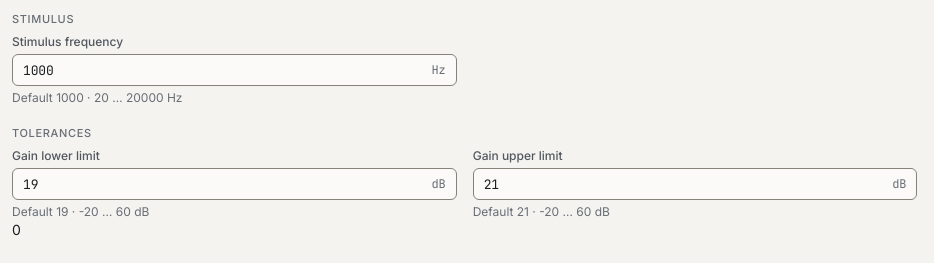
Scenario: ParameterForm › shows an inline range error with units and marks the field invalid
The width and height of the screenshot is (934, 263).
Clear the field labelled "Stimulus frequency" at {"x": 222, "y": 70}, box [13,55,432,85]
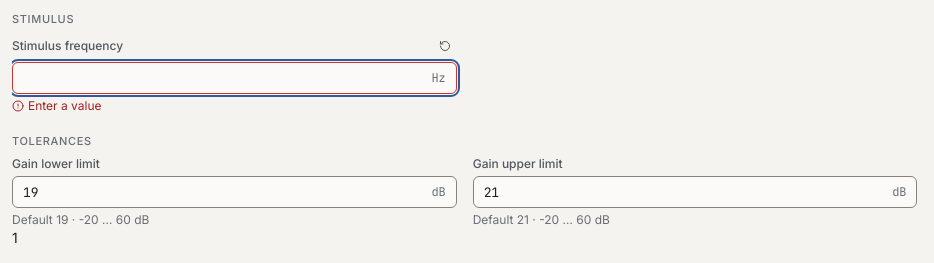
Type "5" into the field labelled "Stimulus frequency".
click(222, 78); type("5")  # box [13,63,432,93]
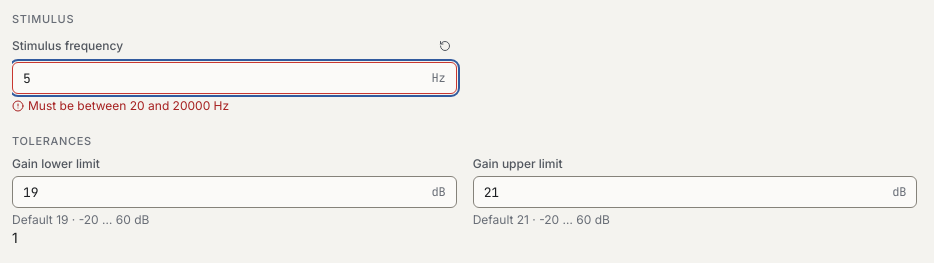
expect the text with test id "invalid" reads "1": met, box [12,229,18,246]
expect the text "Must be between 20 and 20000 Hz" is shown: met, box [28,98,229,114]
